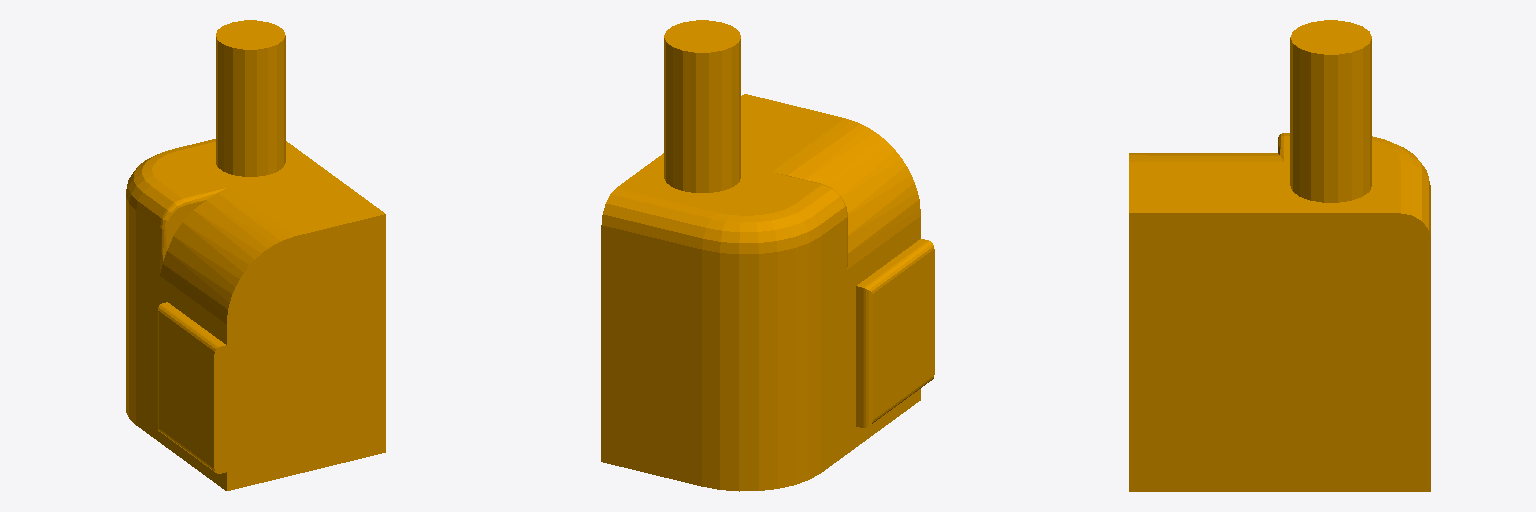
URDF robot description (00863_socket):
<?xml version="1.0"?>
<robot name="00863_socket">
	<link name="00863_socket">
		<visual>
			<geometry>
				<mesh filename="../mesh/00863/asset_socket.obj"/>
			</geometry>
		</visual>
		<collision>
			<geometry>
				<mesh filename="../mesh/00863/asset_socket.obj"/>
			</geometry>
			<sdf resolution="256"/>
		</collision>
	</link>
</robot>

--- Facts derived from the render (not from the file) ---
Views: 3 orthographic renders of the robot side by side, from view 1: azimuth 30°, elevation 25°; view 2: azimuth 150°, elevation 25°; view 3: azimuth 270°, elevation 25°.
Robot: 00863_socket — 1 links, 0 joints (none); root link 00863_socket; default pose: all joints at 0.
Links seen in each view (by area): view 1: 00863_socket; view 2: 00863_socket; view 3: 00863_socket.
Link boxes in pixels (left/top/right/bottom): 00863_socket: left=126, top=20, right=385, bottom=490; 00863_socket: left=601, top=20, right=934, bottom=491; 00863_socket: left=1129, top=20, right=1430, bottom=491.
Size in the robot's own frame: 0.0237 by 0.031 by 0.0482 metres.
Meshes: 1 distinct files referenced, 1 mesh visuals loaded (1 OBJ).
